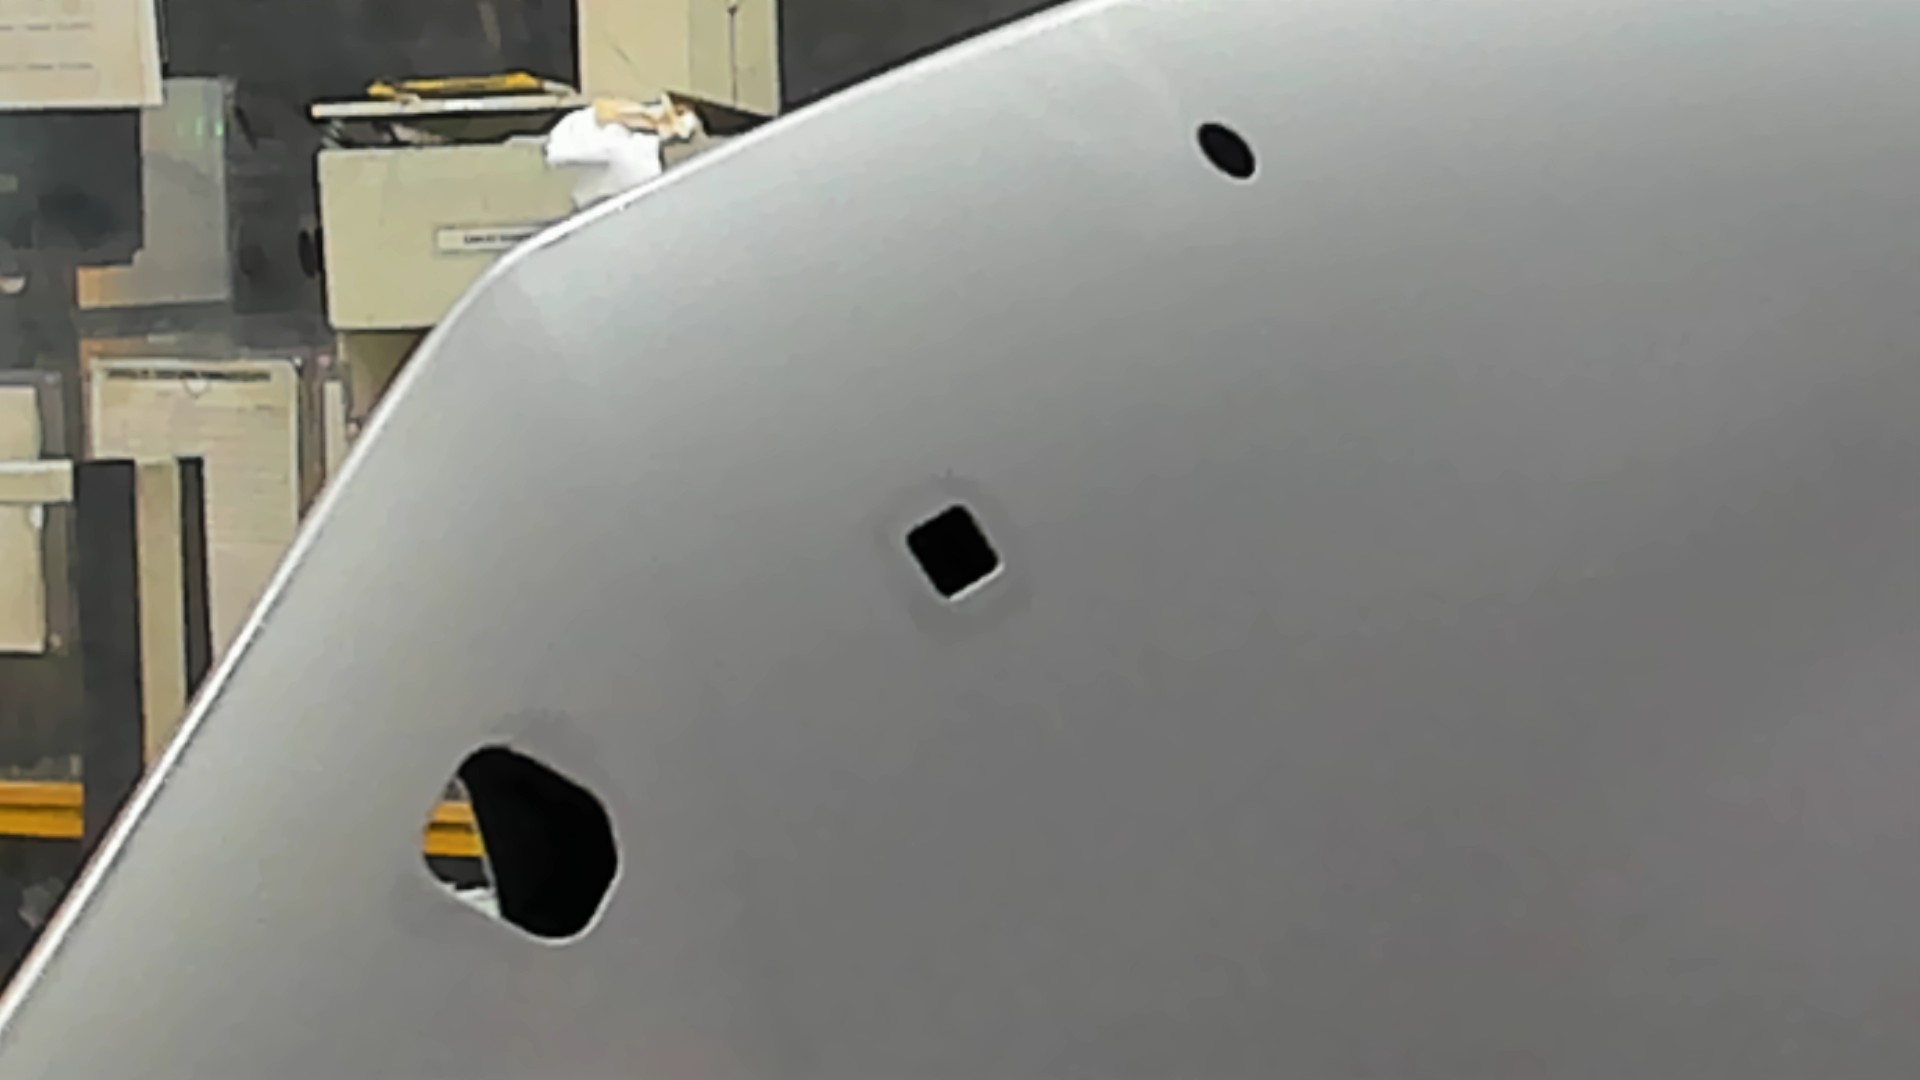Agujero: (903, 502, 1006, 603), (1193, 120, 1261, 179)
Agujerote: (418, 744, 626, 945)
